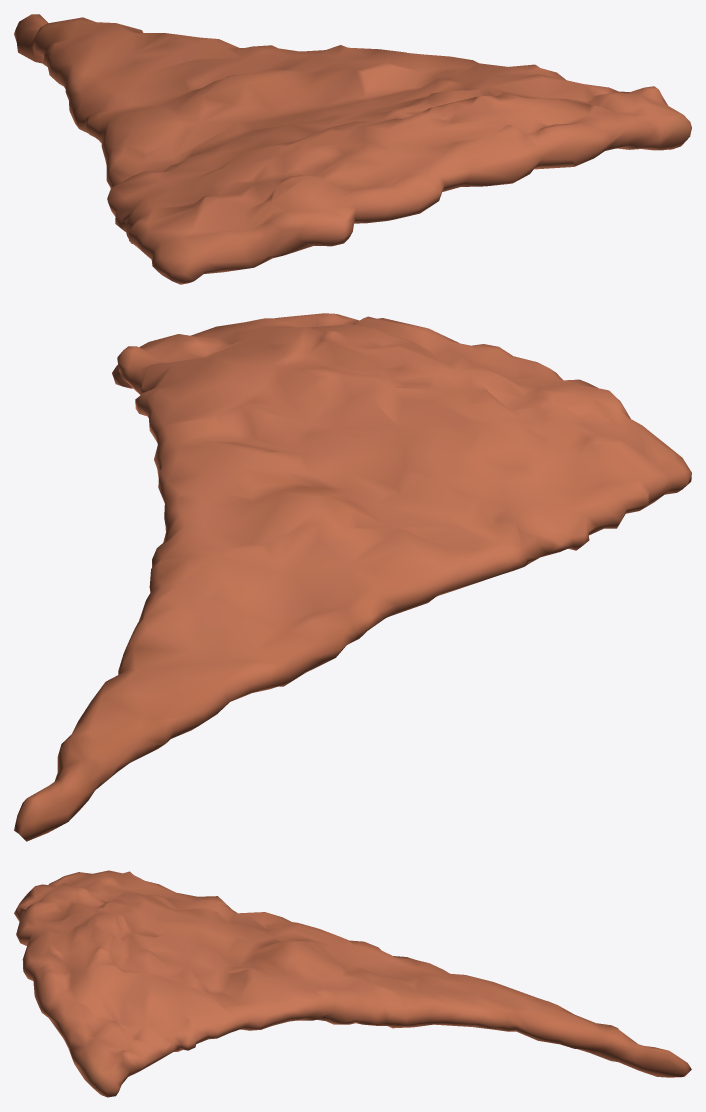
The picture shows the model from 3 angles, top to bottom: view 1: azimuth 30°, elevation 25°; view 2: azimuth 150°, elevation 25°; view 3: azimuth 270°, elevation 25°; orthographic projection. The views are drawn at different scales.
Parts seen in each view (by area): view 1: LOD 1_16298169511486423444_820756dedd5b3434c8e6bed8ae6a193b; view 2: LOD 1_16298169511486423444_820756dedd5b3434c8e6bed8ae6a193b; view 3: LOD 1_16298169511486423444_820756dedd5b3434c8e6bed8ae6a193b.
Part boxes in pixels (left/top/right/bottom): LOD 1_16298169511486423444_820756dedd5b3434c8e6bed8ae6a193b: left=14, top=14, right=691, bottom=284; LOD 1_16298169511486423444_820756dedd5b3434c8e6bed8ae6a193b: left=14, top=313, right=691, bottom=841; LOD 1_16298169511486423444_820756dedd5b3434c8e6bed8ae6a193b: left=14, top=870, right=691, bottom=1097.
Bounding box in the file's own units: 3.11 × 1.13 × 4.33.
